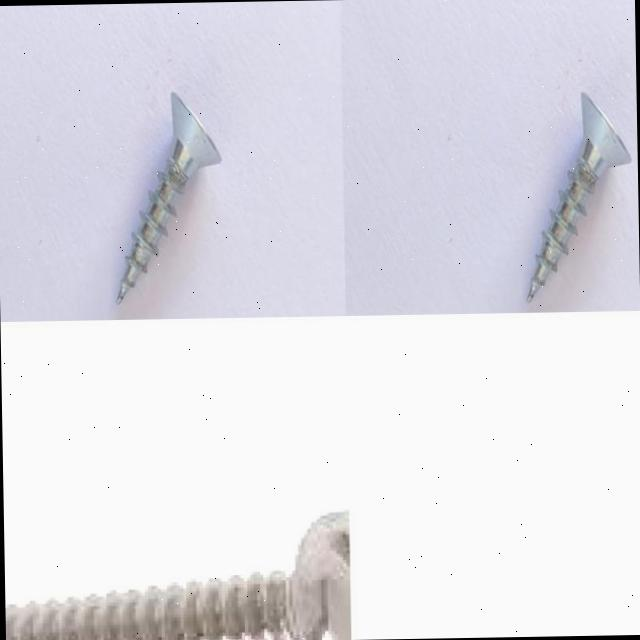Screw: (5, 506, 351, 640), (116, 93, 221, 305), (526, 93, 631, 304)
